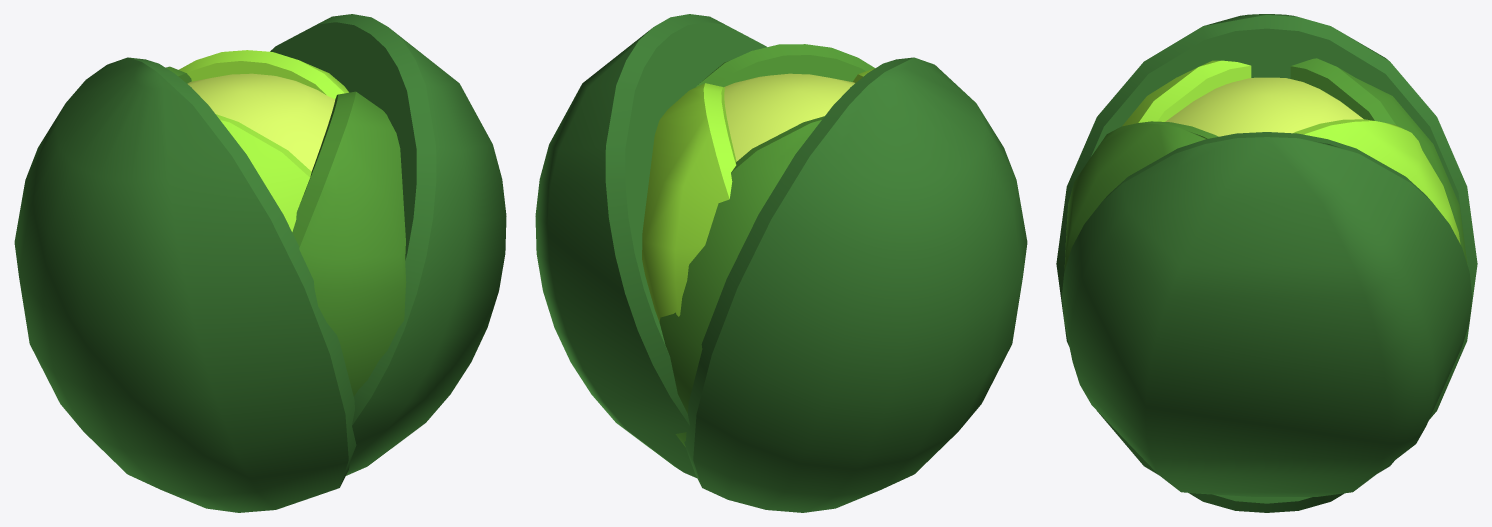
File: cabbage.fbx
3 renders of one model, left to right at view 1: azimuth 30°, elevation 25°; view 2: azimuth 150°, elevation 25°; view 3: azimuth 270°, elevation 25°, orthographic.
Parts seen in each view (by area): view 1: pSphere15; view 2: pSphere15; view 3: pSphere15.
Part boxes in pixels (x1,y1,x2,y2): pSphere15: (14, 14, 506, 512); pSphere15: (535, 14, 1027, 512); pSphere15: (1056, 14, 1477, 512).
Size of the model in its own units: 3.69 by 3.83 by 3.33.
